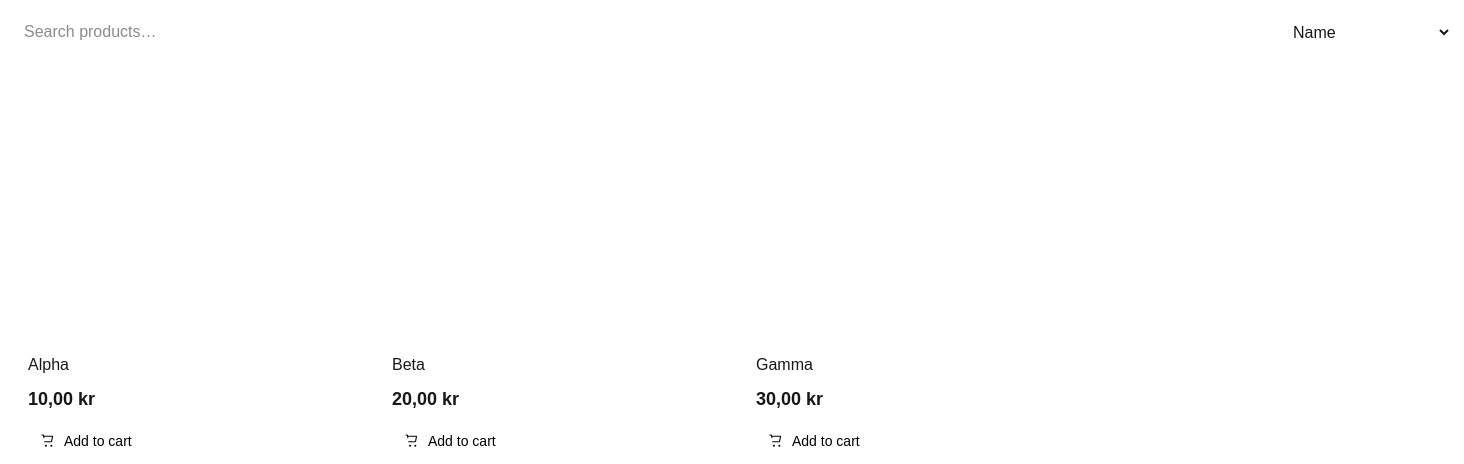
Scenario: ProductsExplorer › filterer listen ved søk
Type "be" into the field labelled "Search products…".
click(236, 32); type("be")  # box x1=12 y1=12 x2=460 y2=52
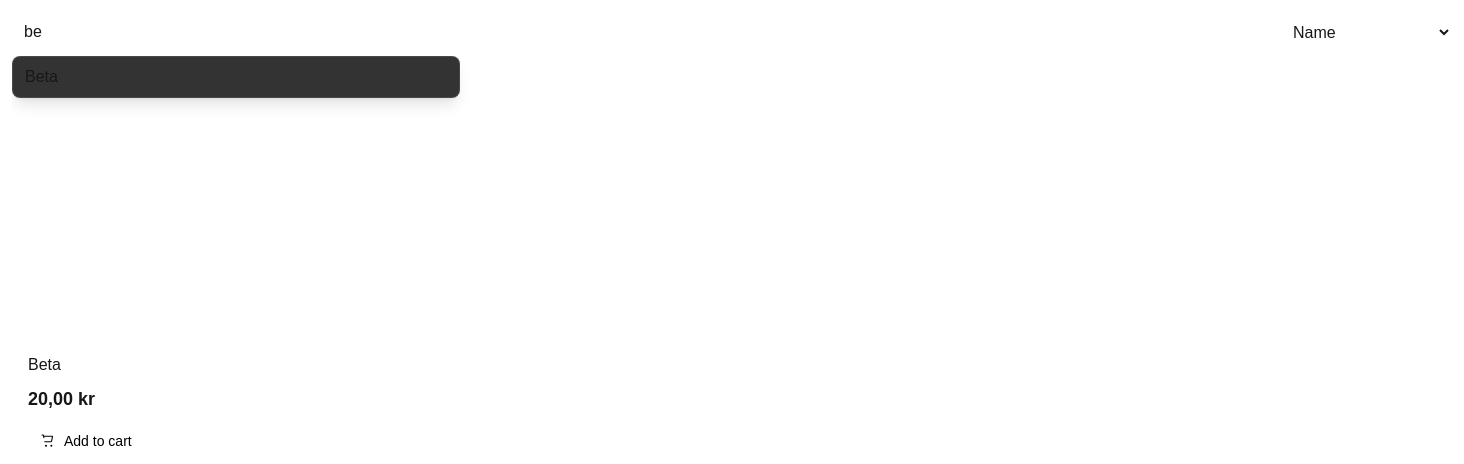
Expected: the link "Beta" is shown, x1=25 y1=68 x2=58 y2=85
